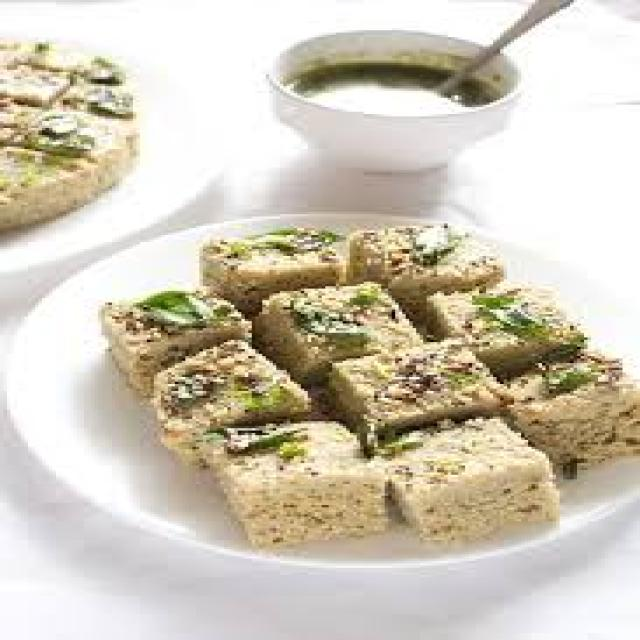DHOKLA: (373, 409, 554, 550), (215, 424, 385, 548), (152, 340, 309, 474), (324, 335, 509, 441), (250, 284, 418, 386), (498, 350, 637, 467), (109, 285, 252, 394), (430, 286, 580, 377), (205, 224, 347, 315), (359, 223, 497, 314)
